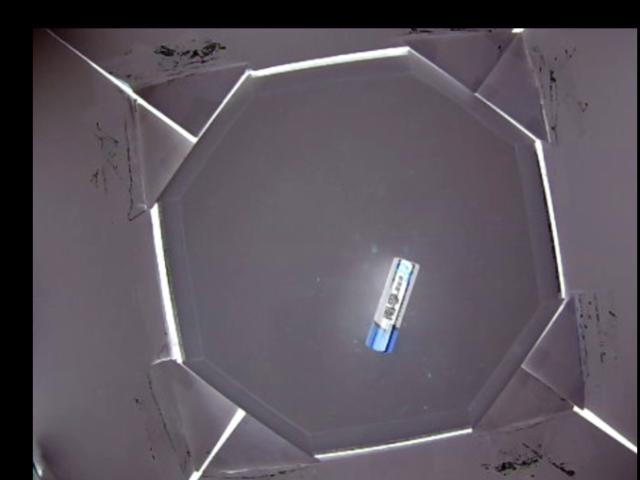Battery: (362, 256, 421, 351)
